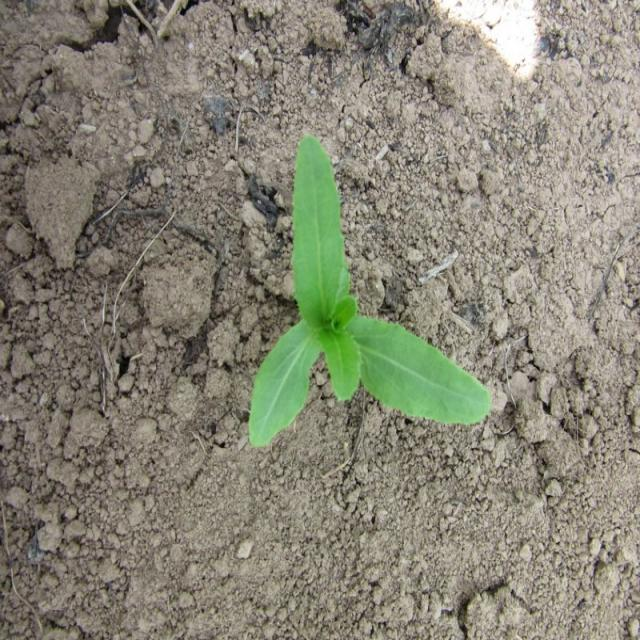cs: (245, 134, 497, 452)
